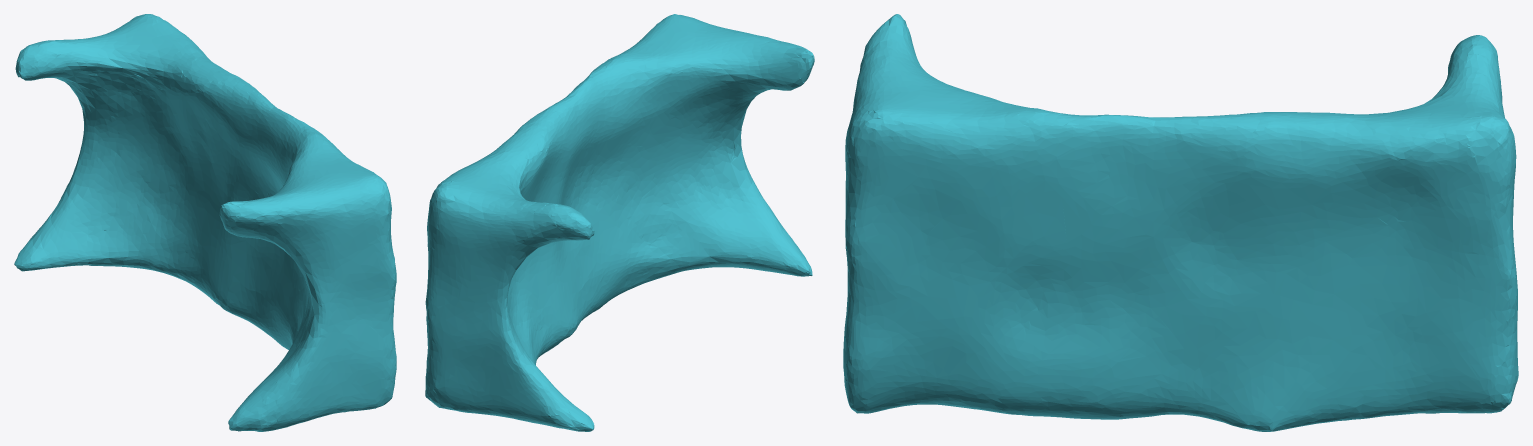
The picture shows the model from 3 angles, left to right: view 1: azimuth 30°, elevation 25°; view 2: azimuth 150°, elevation 25°; view 3: azimuth 270°, elevation 25°; orthographic projection. The views are drawn at different scales.
Visible parts, largest first — view 1: Renderer Node; view 2: Renderer Node; view 3: Renderer Node.
Boxes of the visible parts, <box> form: Renderer Node: <box>14,14,396,431</box>; Renderer Node: <box>425,14,814,431</box>; Renderer Node: <box>843,14,1518,431</box>.
Bounding box in the file's own units: 0.321 × 0.4331 × 0.8369.
1 material, 1 textured.
